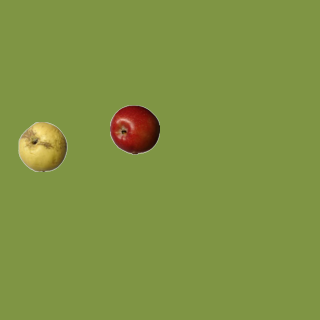Apple Braeburn: (109, 104, 159, 154)
Apple Golden 1: (17, 121, 67, 171)
